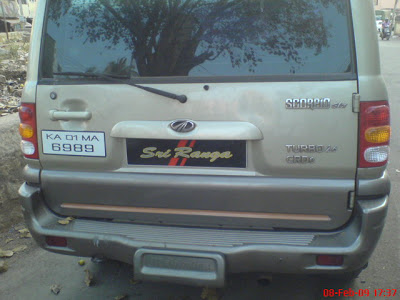number_plate: (36, 123, 110, 165)
